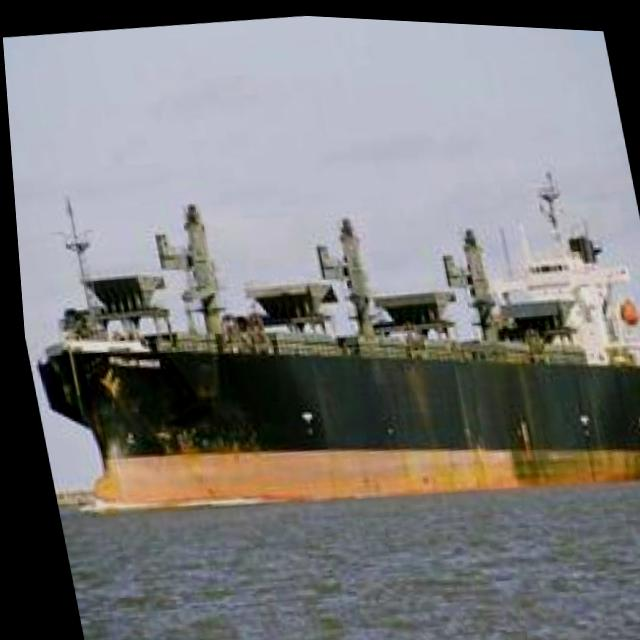ship2: (29, 164, 640, 515)
